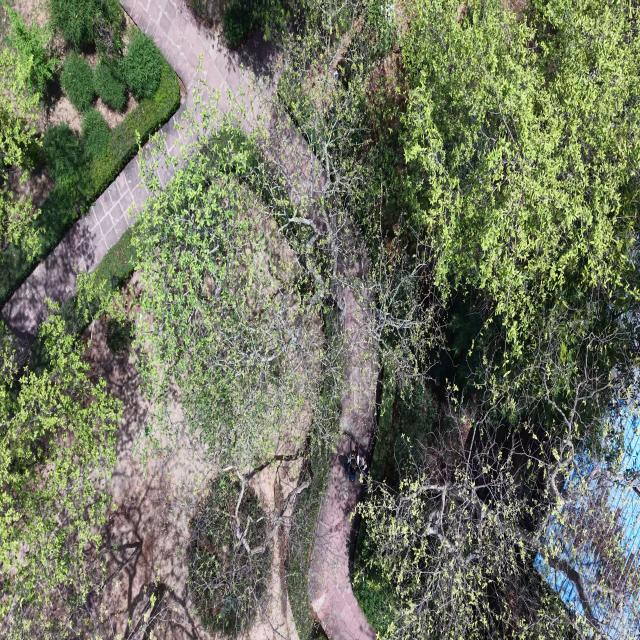DRY_AREA: (266, 118, 379, 639), (85, 317, 220, 639), (85, 318, 219, 639), (85, 318, 215, 639), (88, 320, 215, 639), (308, 221, 379, 639), (237, 316, 322, 639), (2, 158, 146, 336), (308, 275, 378, 639), (309, 266, 377, 639), (308, 286, 377, 639), (121, 0, 274, 157), (309, 287, 377, 639), (90, 452, 209, 639), (121, 0, 276, 120), (239, 396, 313, 639), (308, 439, 375, 639), (339, 266, 378, 448), (246, 527, 299, 639), (13, 0, 48, 28)
PATHWAYS: (309, 288, 377, 639), (121, 0, 270, 154)
VEGETATION_TREE: (0, 0, 639, 639), (139, 5, 637, 637), (279, 2, 638, 637), (279, 3, 636, 372), (134, 105, 344, 631), (400, 2, 638, 358), (135, 115, 362, 473), (134, 104, 322, 469), (359, 393, 639, 638), (265, 3, 441, 384), (278, 3, 441, 397), (0, 12, 179, 279), (360, 422, 572, 638), (0, 55, 180, 301), (0, 314, 121, 635), (186, 472, 272, 637), (0, 9, 57, 255), (91, 59, 180, 193), (60, 229, 136, 354), (286, 438, 331, 638), (0, 48, 39, 254), (190, 0, 291, 48), (0, 48, 39, 167), (8, 10, 58, 95), (49, 0, 123, 55), (222, 0, 289, 48), (42, 124, 84, 193), (122, 30, 162, 100), (49, 0, 96, 46), (61, 52, 95, 112), (94, 0, 125, 58), (94, 59, 125, 110), (81, 109, 110, 159), (223, 0, 252, 47), (106, 318, 132, 354), (190, 0, 220, 24)
